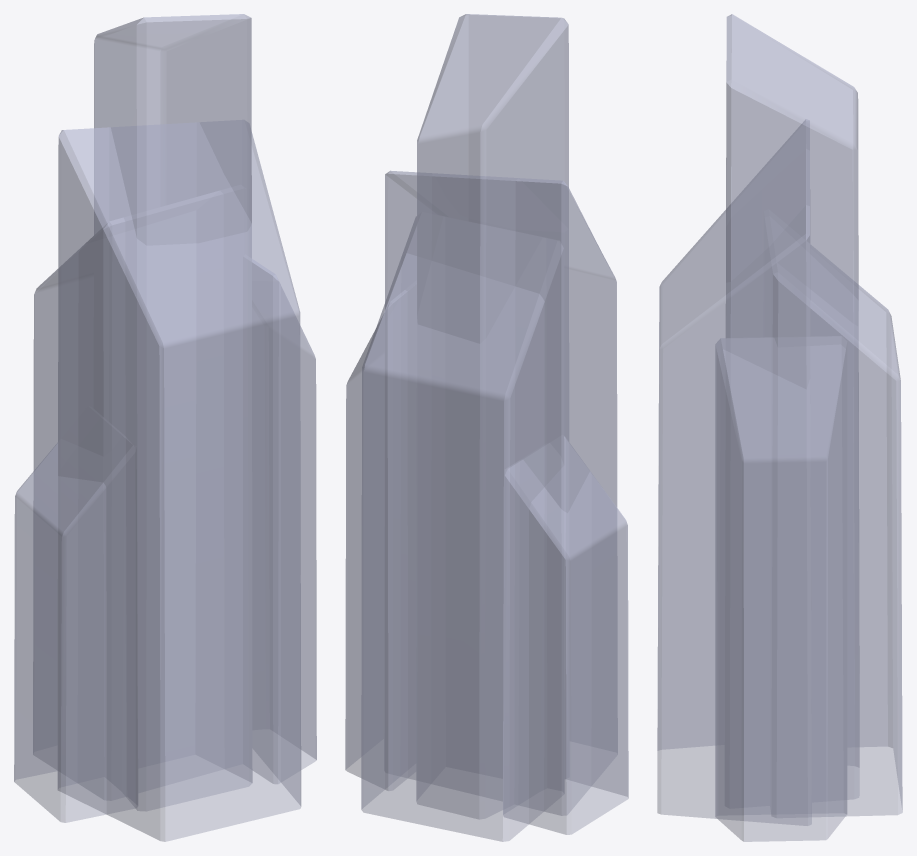
Rendered from ice pillar .fbx.
3 renders of one model, left to right at view 1: azimuth 30°, elevation 25°; view 2: azimuth 150°, elevation 25°; view 3: azimuth 270°, elevation 25°, orthographic. The views are drawn at different scales.
Visible parts, largest first — view 1: pCube2, pCube6, pCube5, pCube3, pCube4; view 2: pCube4, pCube6, pCube2, pCube5, pCube3; view 3: pCube2, pCube3, pCube4, pCube6.
Boxes of the visible parts, x1,y1,x2,y2 form: pCube2: [58, 120, 301, 841]; pCube6: [94, 14, 252, 810]; pCube5: [14, 418, 137, 822]; pCube3: [252, 259, 316, 783]; pCube4: [33, 191, 219, 754]; pCube4: [361, 216, 564, 841]; pCube6: [416, 14, 568, 819]; pCube2: [385, 170, 617, 815]; pCube5: [503, 436, 628, 834]; pCube3: [345, 280, 416, 790]; pCube2: [657, 119, 811, 825]; pCube3: [715, 336, 846, 841]; pCube4: [771, 245, 902, 816]; pCube6: [726, 14, 859, 799].
Bounding box in the file's own units: 1.46 × 4.31 × 1.28.
